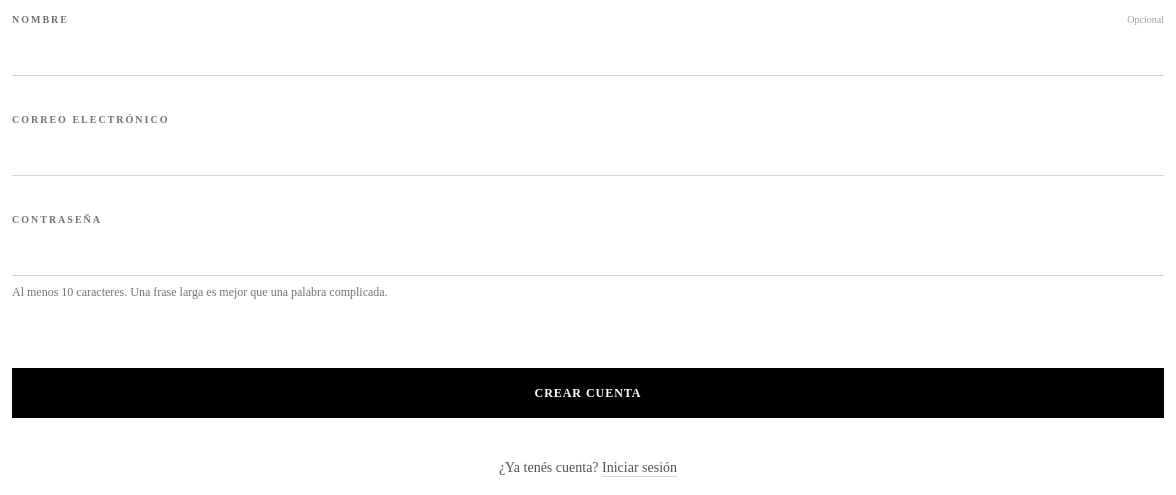
Test: SignUpForm: validation › rejects a very common password
Step 1. Type "Ana Perez" into the field labelled "Nombre Opcional" → {"x": 588, "y": 52}, box [12,27,1164,76]
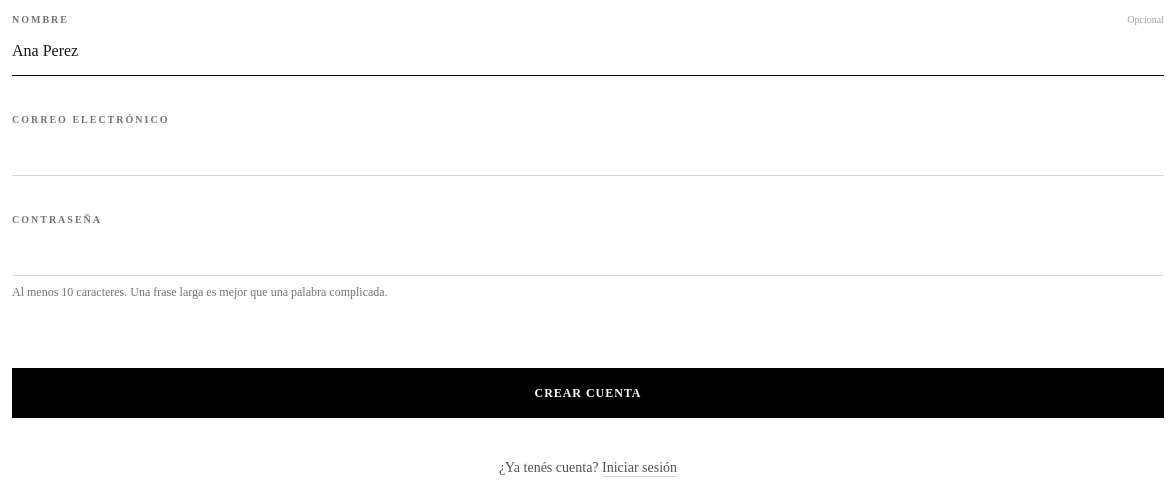
Step 2. Type "ana@example.com" into the field labelled "Correo electrónico" → {"x": 588, "y": 152}, box [12,127,1164,176]
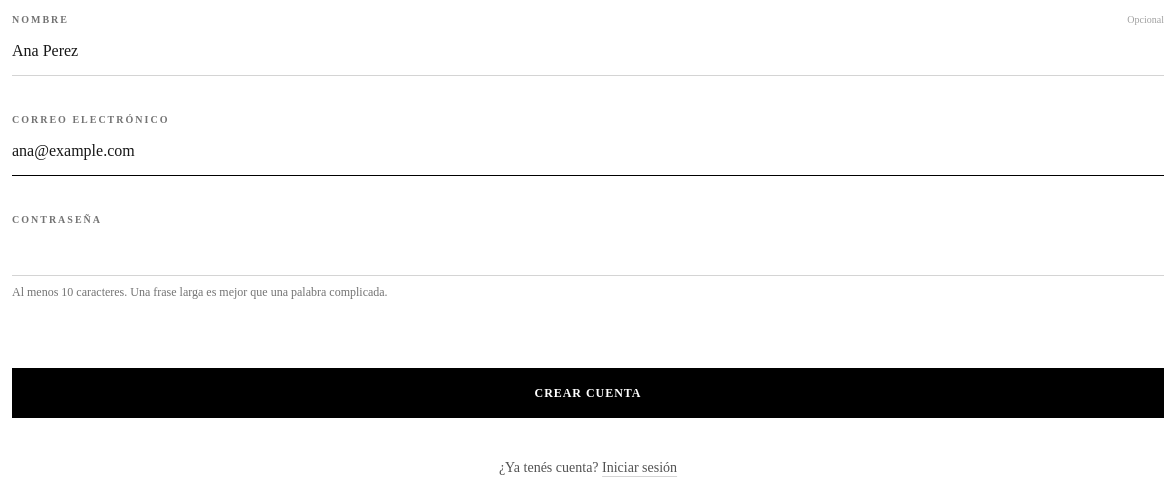
Step 3. Type "password123" into the password field labelled "Contraseña" → {"x": 588, "y": 252}, box [12,227,1164,276]
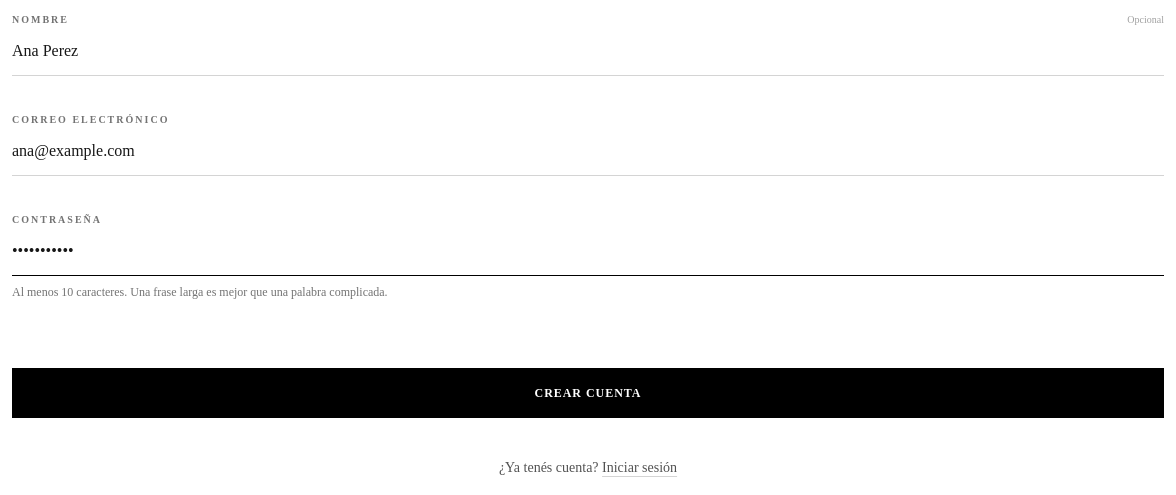
Step 4. Click the button "Crear cuenta" → {"x": 588, "y": 393}, box [12,368,1164,418]
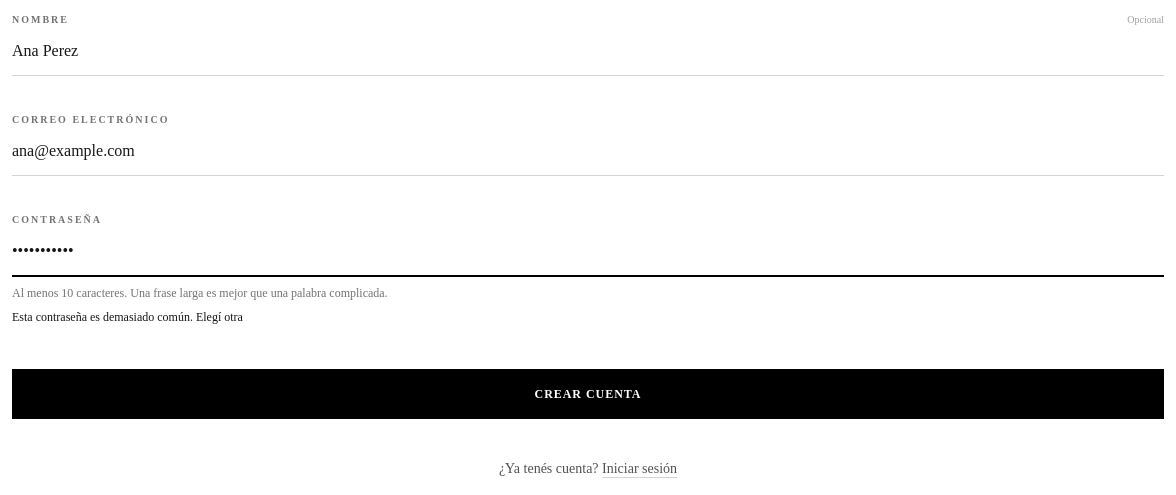
Now the text "Esta contraseña es demasiado común. Elegí otra" is shown, box [12,310,243,324]
